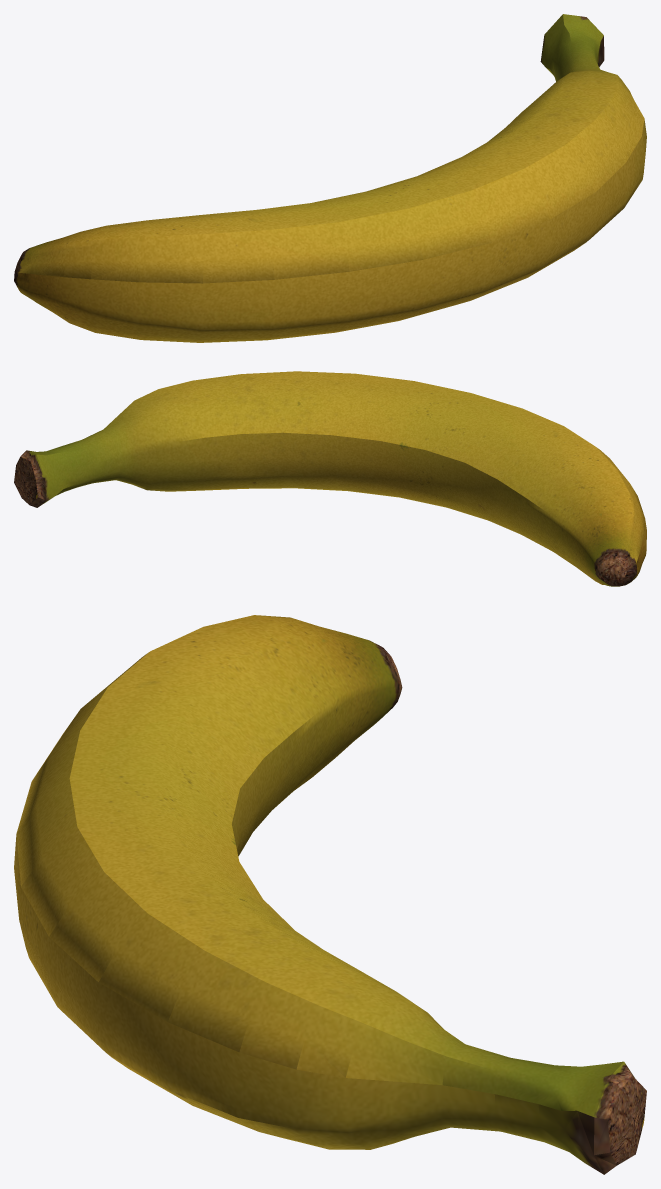
File: item_02_banan.fbx
The picture shows the model from 3 angles, top to bottom: view 1: azimuth 30°, elevation 25°; view 2: azimuth 150°, elevation 25°; view 3: azimuth 270°, elevation 25°; orthographic projection. The views are drawn at different scales.
Visible parts, largest first — view 1: Mesh; view 2: Mesh; view 3: Mesh.
Part boxes in pixels (x1,y1,x2,y2): Mesh: (14,14,646,342); Mesh: (14,371,646,586); Mesh: (14,615,646,1174).
Size of the model in its own units: 20 by 3.38 by 10.89.
